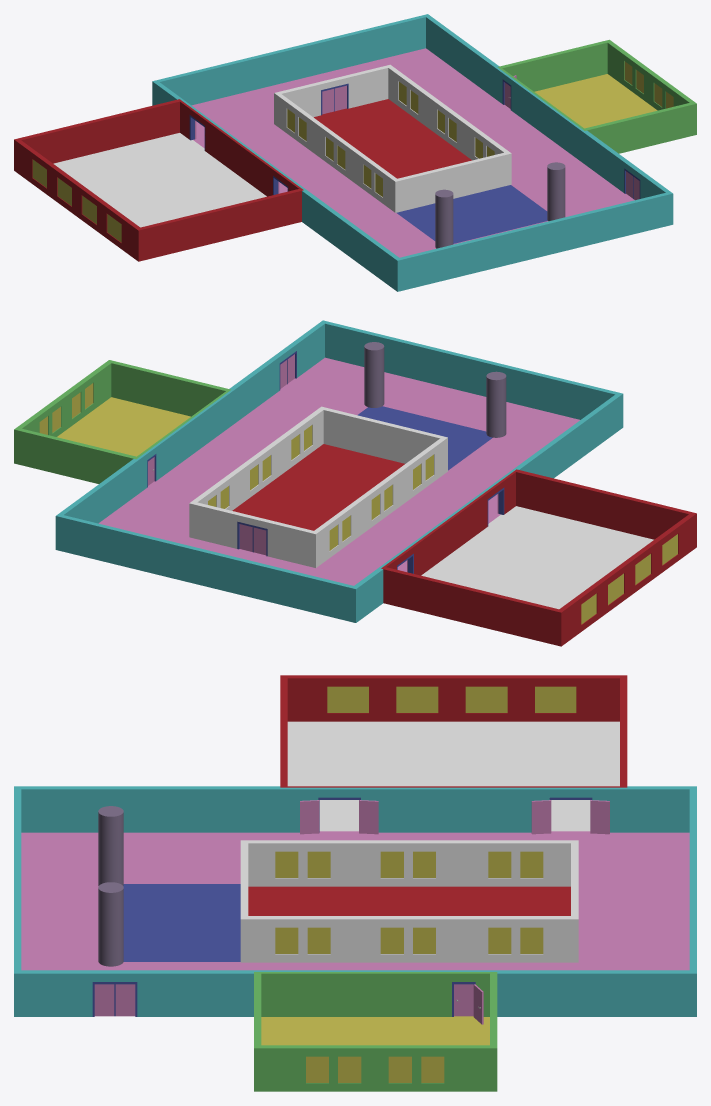
The model's file is WallsandFloors.fbx.
3 views of the same model, one above another, from view 1: azimuth 30°, elevation 25°; view 2: azimuth 150°, elevation 25°; view 3: azimuth 270°, elevation 25° (orthographic). The views are drawn at different scales.
Parts seen in each view (by area): view 1: floor, walls (×2), lunchroom, outdoorarea, pllars; view 2: floor, walls (×2), lunchroom, outdoorarea, pllars; view 3: floor, walls (×2), outdoorarea, lunchroom, pllars, closeddoor.
Boxes of the visible parts, <box> form: floor: <box>53,48,657,257</box>; walls (×2): <box>152,14,696,291</box>; lunchroom: <box>14,99,303,261</box>; outdoorarea: <box>274,64,511,212</box>; pllars: <box>435,162,565,248</box>; floor: <box>57,357,653,609</box>; walls (×2): <box>14,320,623,622</box>; lunchroom: <box>381,469,696,646</box>; outdoorarea: <box>189,406,447,567</box>; pllars: <box>364,342,506,437</box>; floor: <box>21,721,689,1045</box>; walls (×2): <box>14,786,696,1091</box>; outdoorarea: <box>240,840,578,962</box>; lunchroom: <box>280,675,627,834</box>; pllars: <box>98,806,123,966</box>; closeddoor: <box>454,984,473,1016</box>.
Size of the model in its own units: 47930 by 4425 by 37090.
